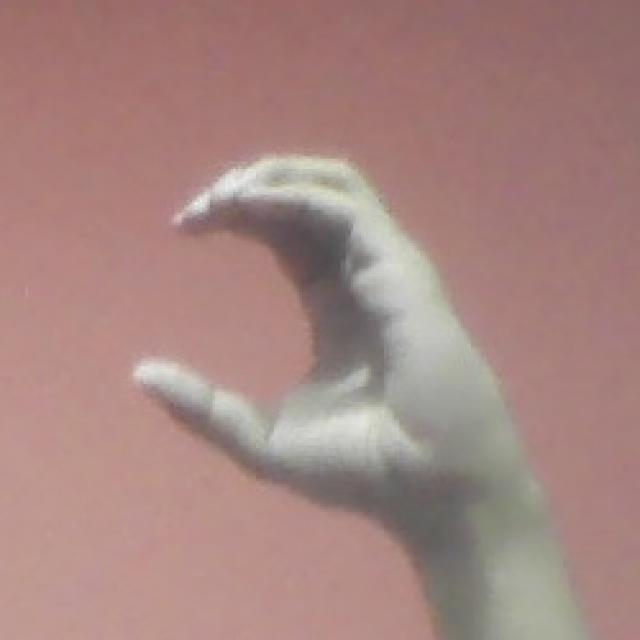Alphabet-C: (127, 146, 509, 521)
